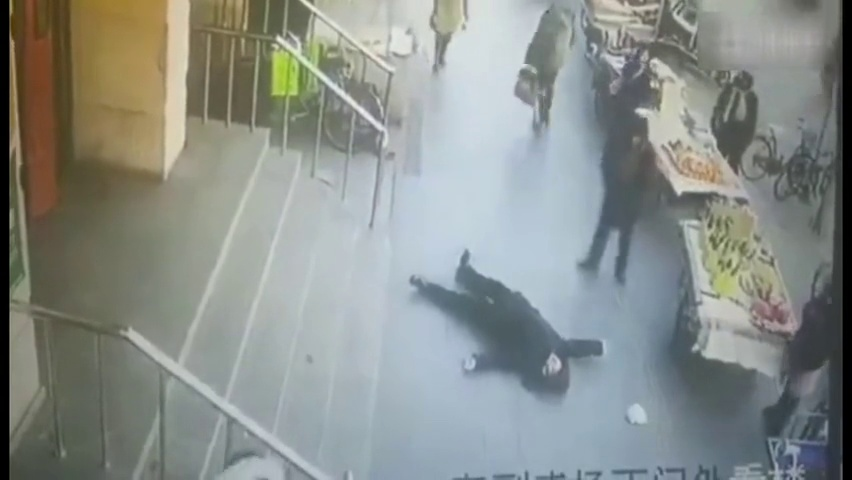fall: (405, 244, 610, 400)
nofall: (577, 128, 653, 280), (768, 268, 837, 433), (509, 6, 577, 132), (709, 72, 766, 169), (423, 1, 468, 68)
